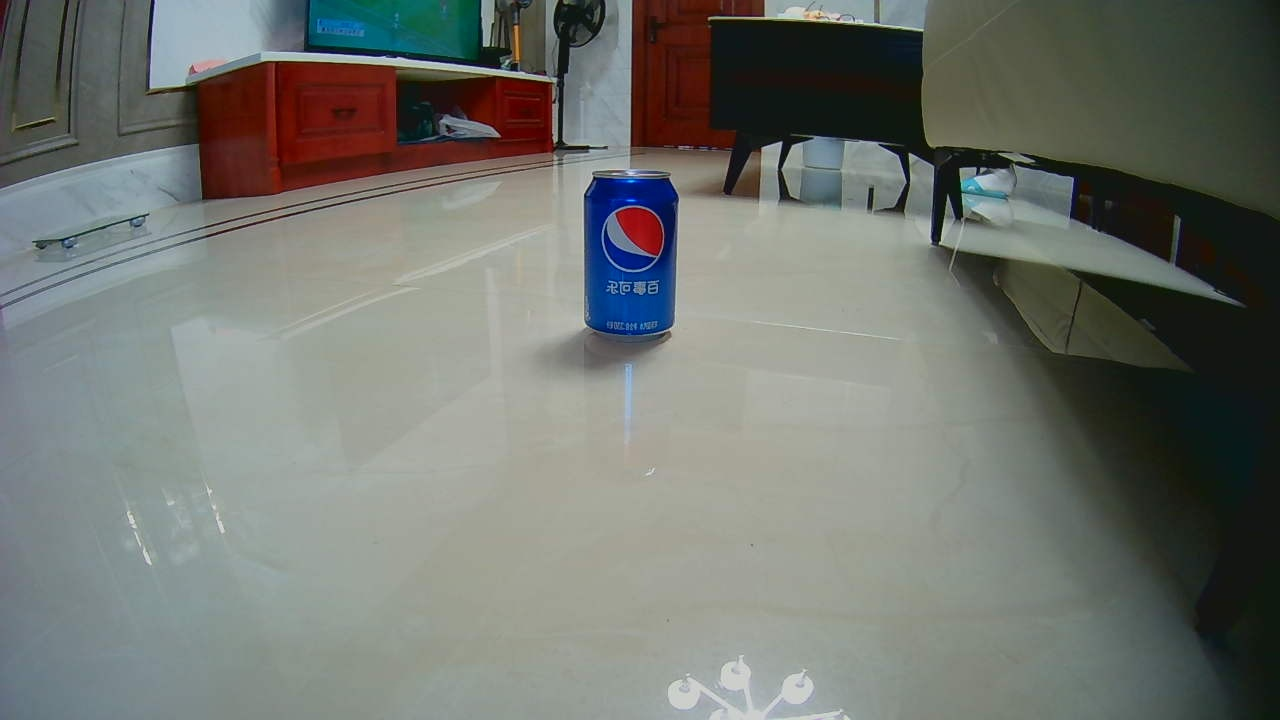pessi: (582, 170, 680, 350)
